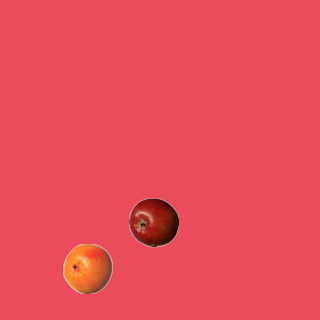Apple Braeburn: (128, 197, 178, 247)
Grapefruit Pink: (62, 243, 112, 293)
